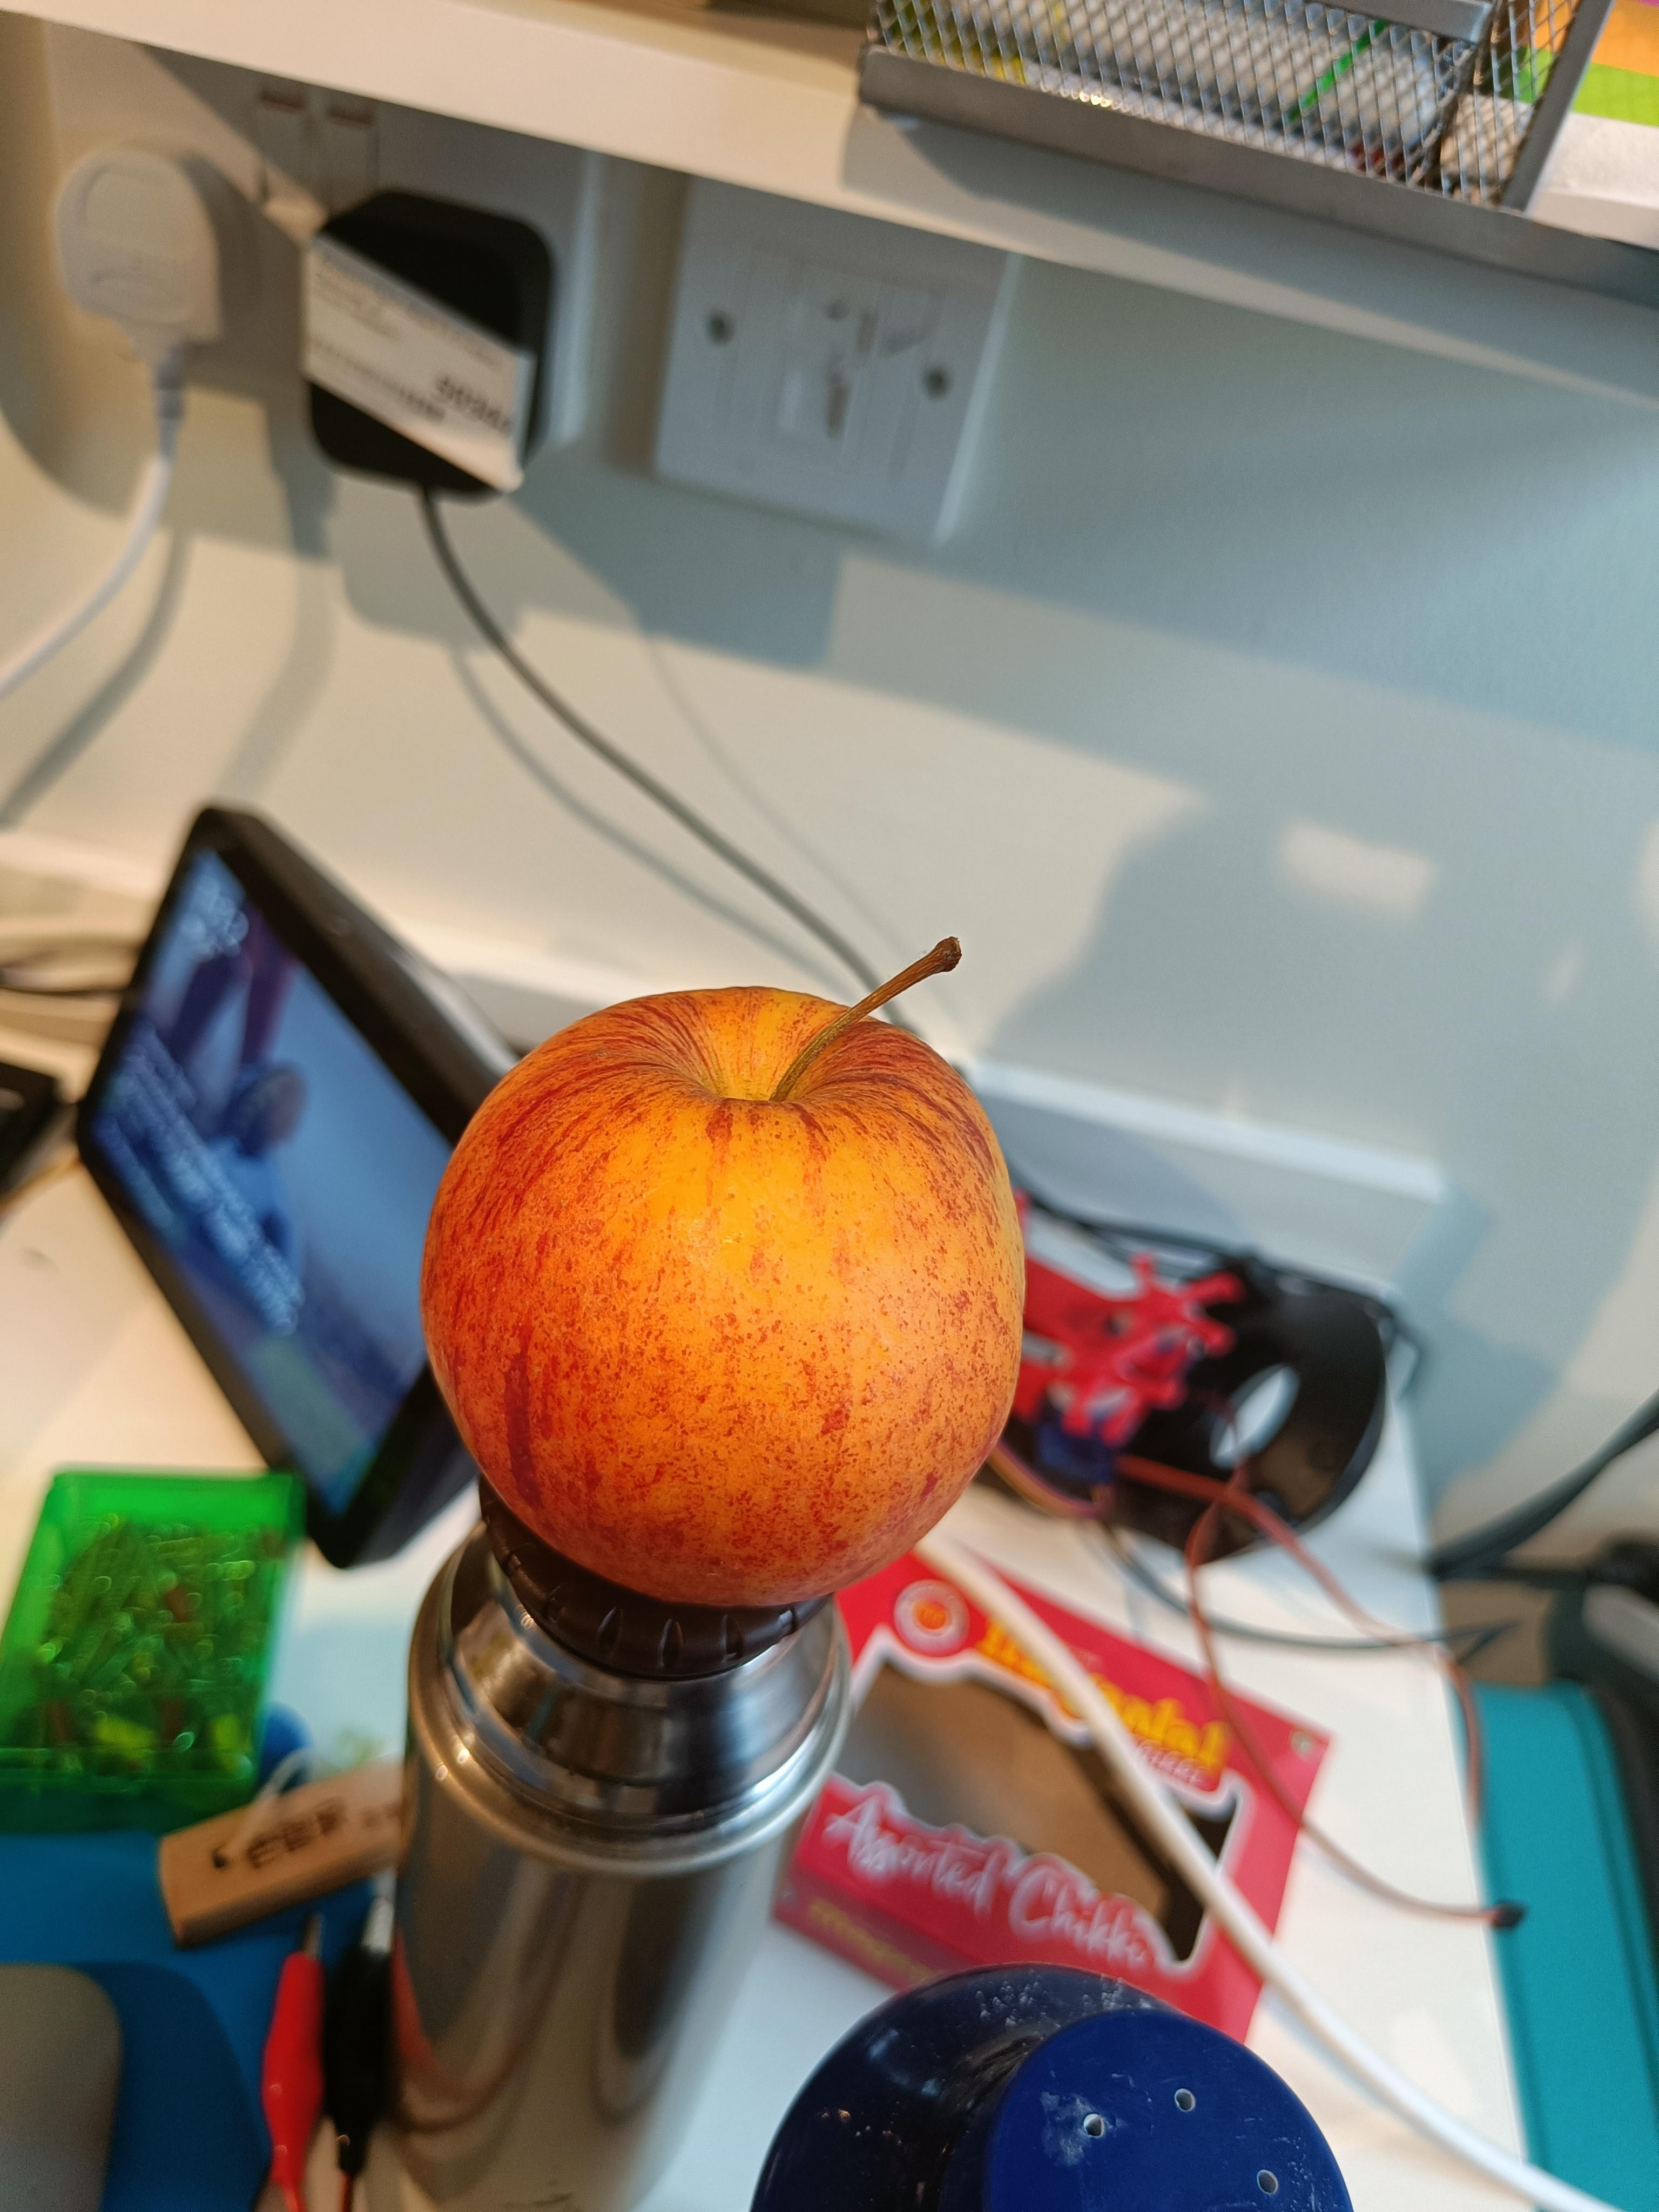Apple: (379, 896, 1056, 1623)
